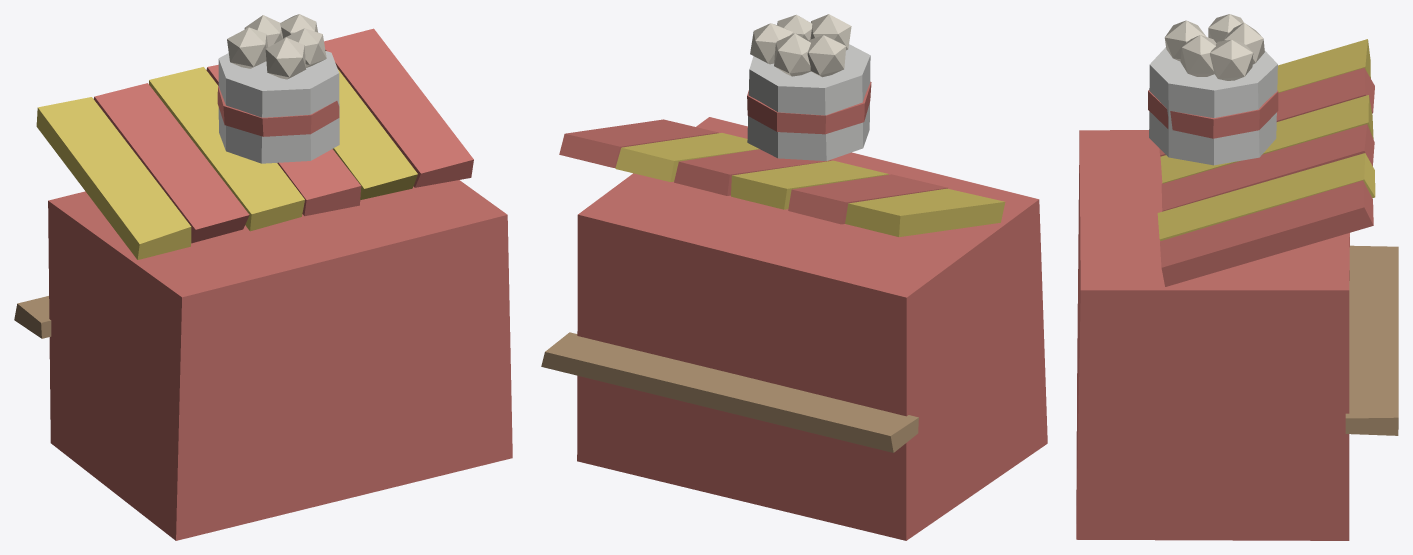
The model's file is popcornstall.fbx.
The picture shows the model from 3 angles, left to right: view 1: azimuth 30°, elevation 25°; view 2: azimuth 150°, elevation 25°; view 3: azimuth 270°, elevation 25°; orthographic projection. The views are drawn at different scales.
Parts seen in each view (by area): view 1: PopcornStall; view 2: PopcornStall; view 3: PopcornStall.
Part boxes in pixels (x1,y1,x2,y2): PopcornStall: (14, 14, 512, 540); PopcornStall: (541, 14, 1047, 540); PopcornStall: (1076, 14, 1398, 540).
Bounding box in the file's own units: 2.73 × 3.19 × 2.14.
